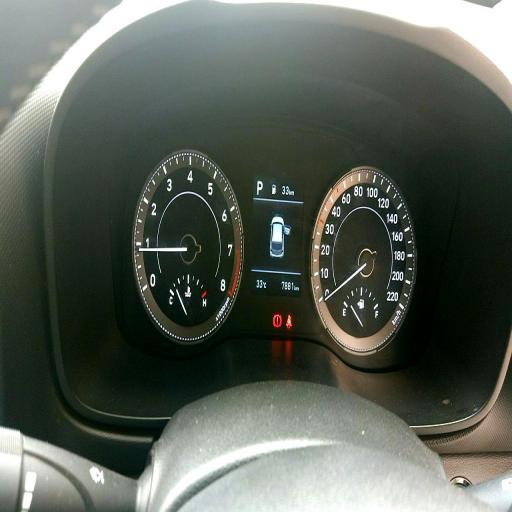belt: (286, 312, 292, 331)
brake_system_fault: (273, 312, 282, 328)
tachometer: (133, 149, 243, 341)
